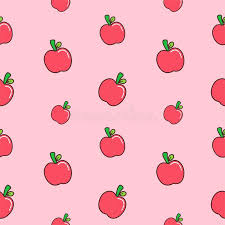apple: (41, 151, 76, 187)
